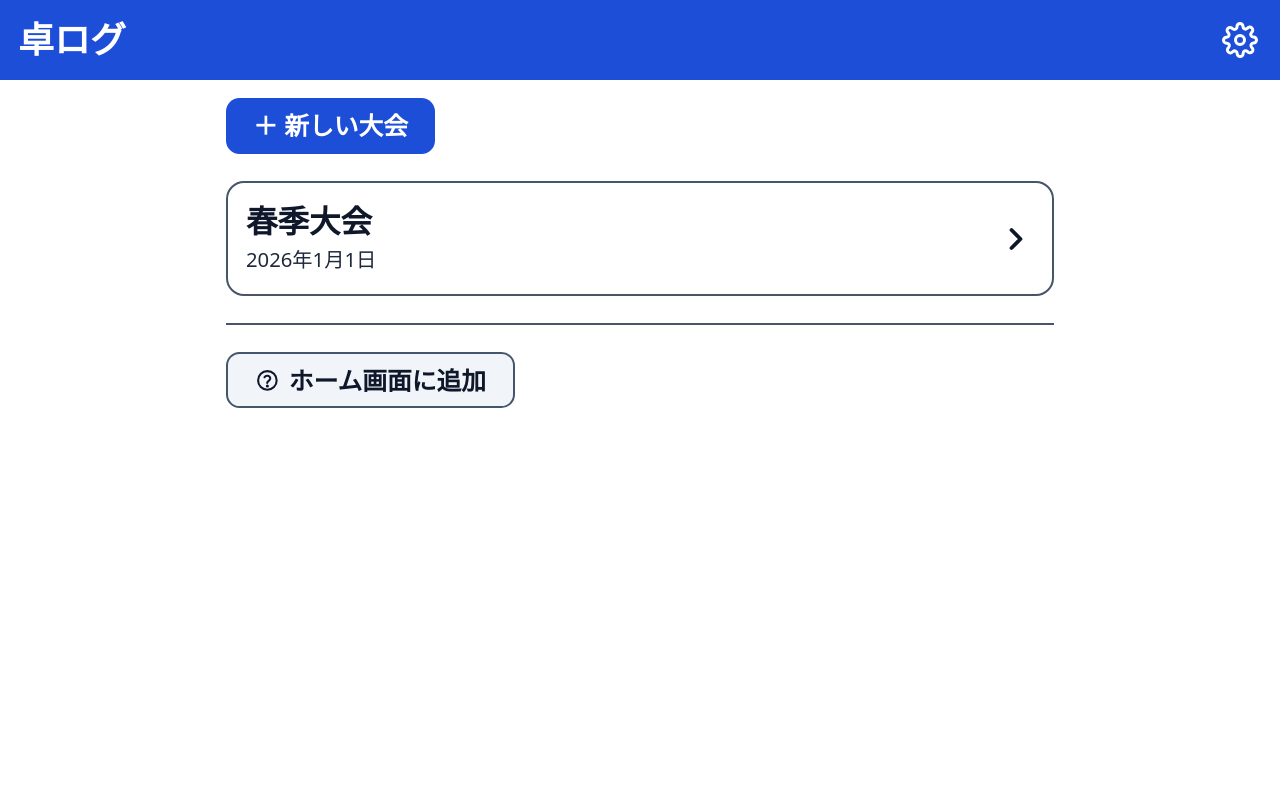
Test case: Home › データ初期化: モーダル確定で全データが消える
Check: the text "春季大会" is shown, box left=246, top=201, right=376, bottom=242
設定モーダルを開く
Click the button named "設定": [1240, 40] box left=1218, top=18, right=1262, bottom=62
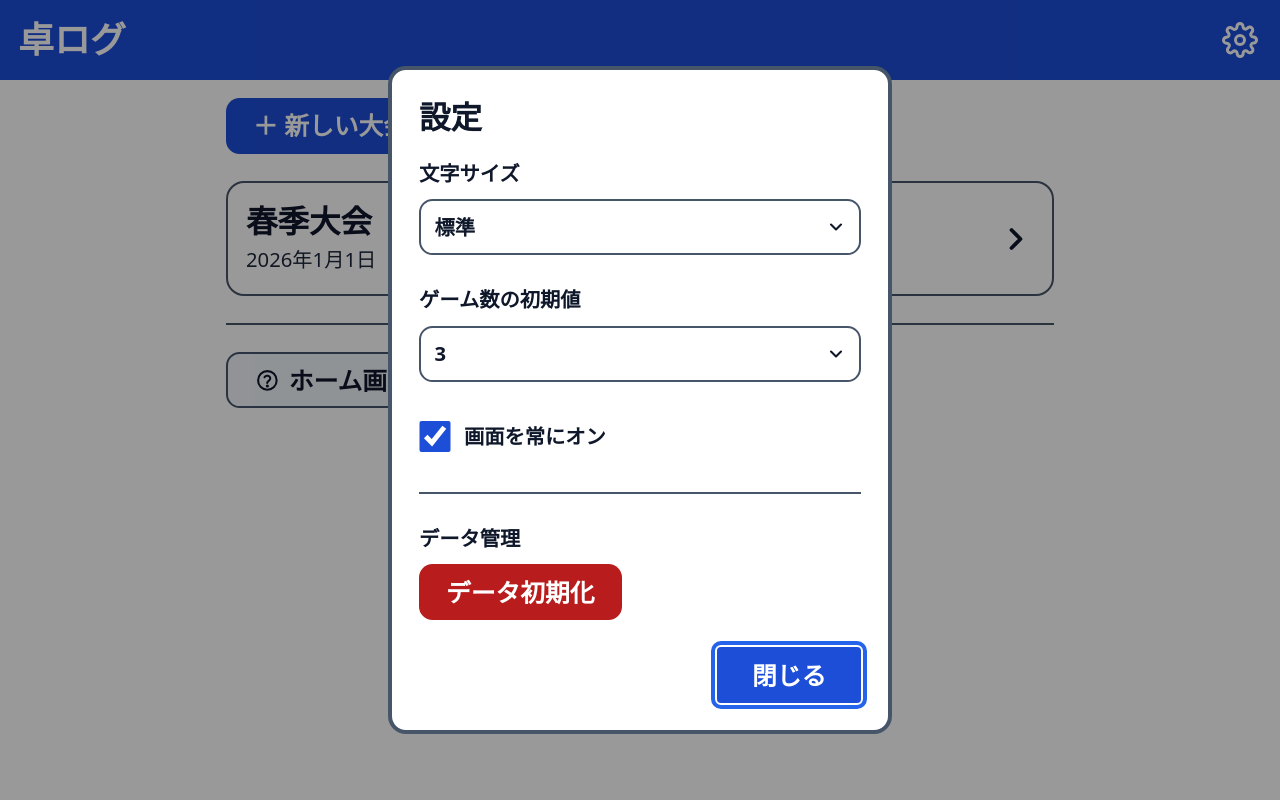
モーダル内の「データ初期化」をクリック
Click the button "データ初期化": [520, 592] box left=419, top=564, right=622, bottom=620
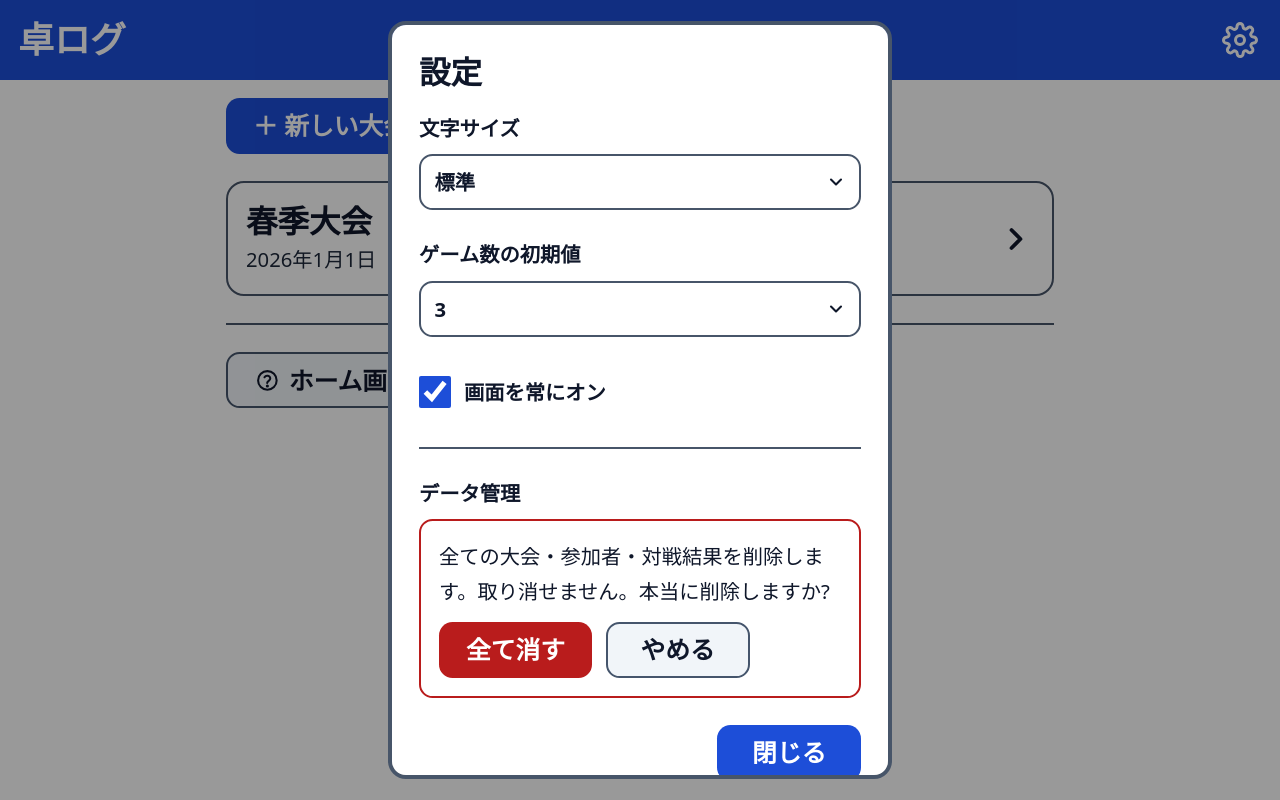
 確定をクリック
Click the button "全て消す": [516, 650] box left=439, top=622, right=592, bottom=678
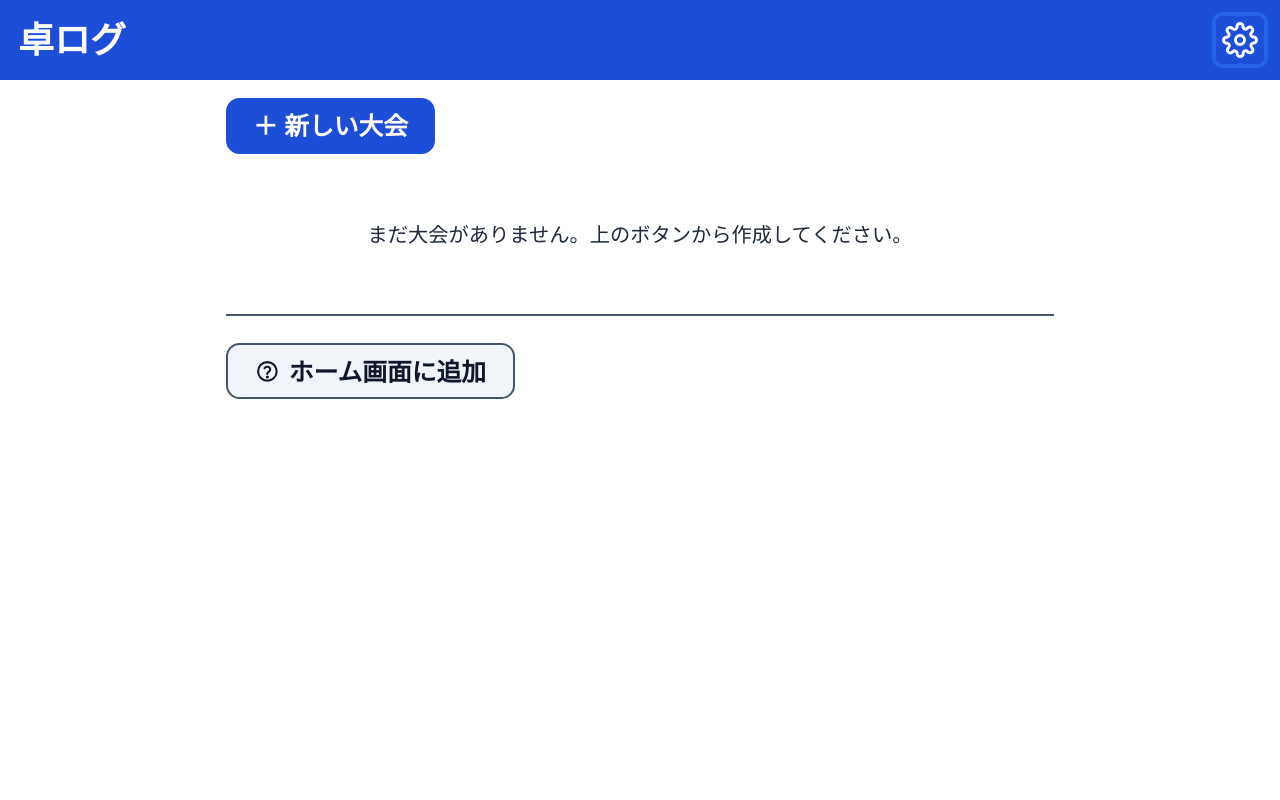
Check: the button "春季大会" is gone
